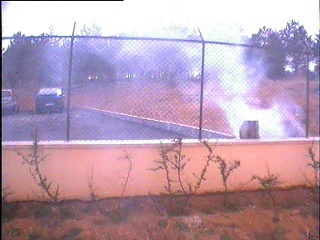smoke: (153, 26, 305, 140)
